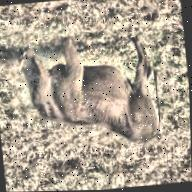boar: (0, 33, 181, 171)
